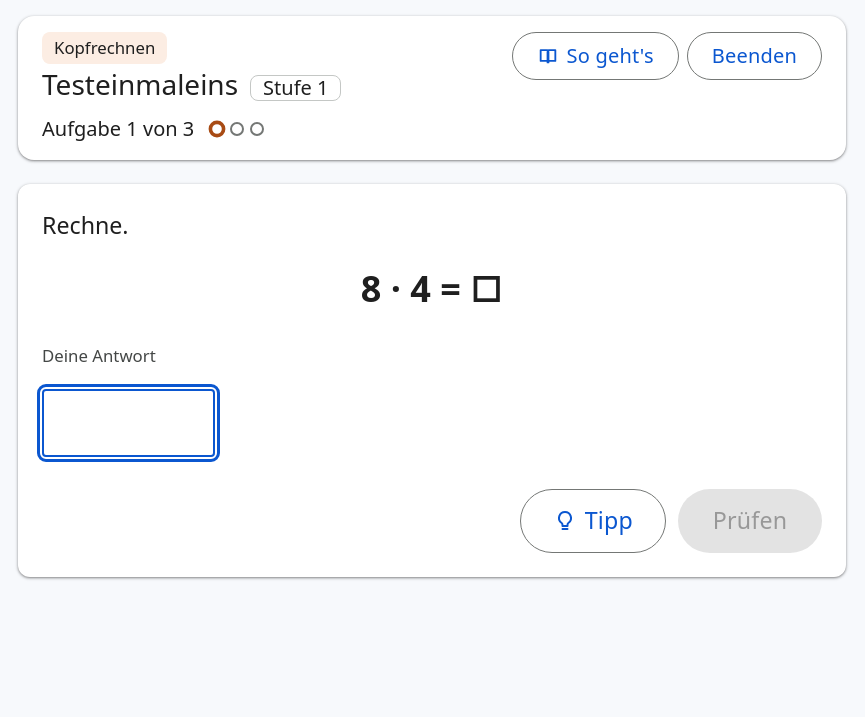
PracticePage: item flow › 1st wrong without a bug shows the next strategy hint
Expected: the button "Prüfen" is shown, [678,489,822,553]
Type "1" into the field labelled "Deine Antwort" at (129, 423), box [42,389,215,457]
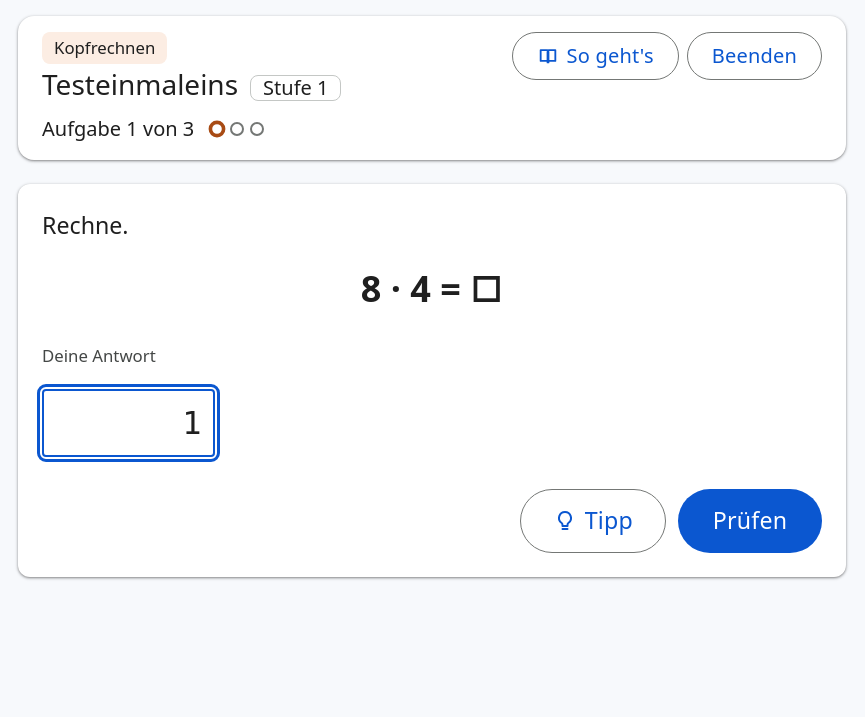
Click the button "Prüfen" at (750, 521), box [678,489,822,553]
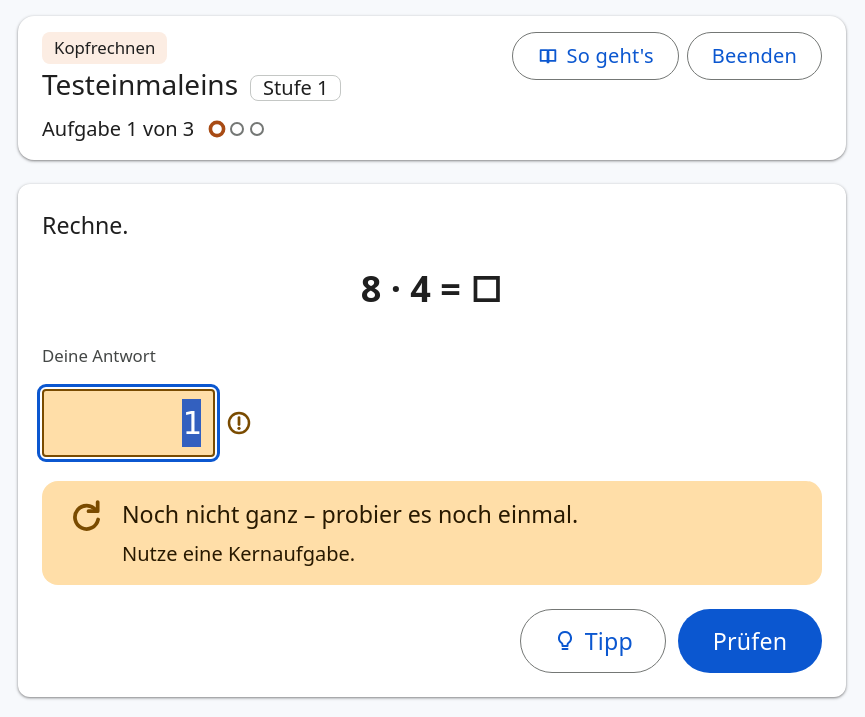
Now the text "Nutze eine Kernaufgabe." is shown, box [122,540,355,567]
